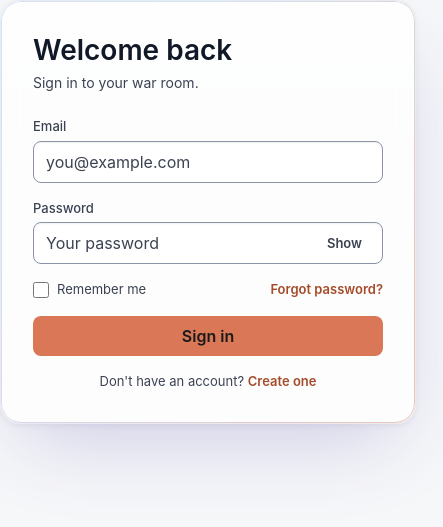
Test: AuthForm › marks an invalid field and clears the error once the user edits it
Click the button "Sign in".
click(208, 336)  # box x1=33 y1=316 x2=383 y2=356
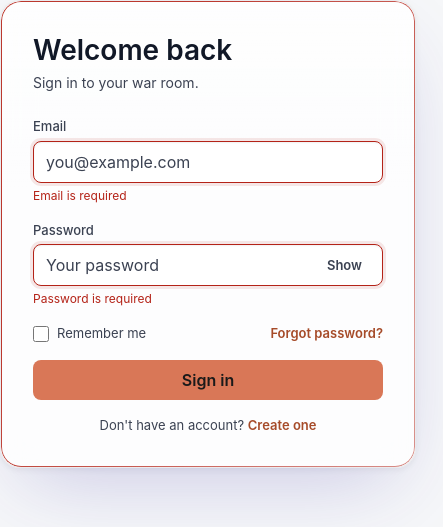
Type "a" into the field labelled "Email".
click(208, 162); type("a")  # box x1=33 y1=140 x2=383 y2=182
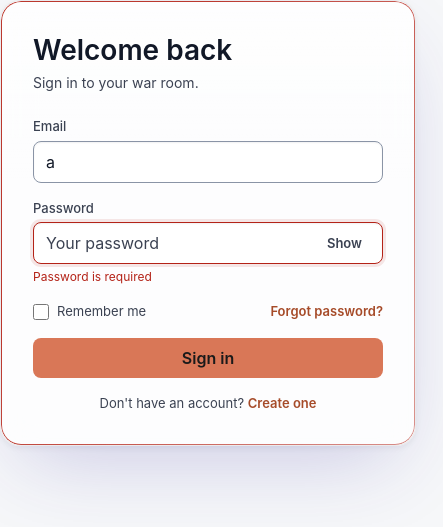
Now the text "Email is required" is gone
